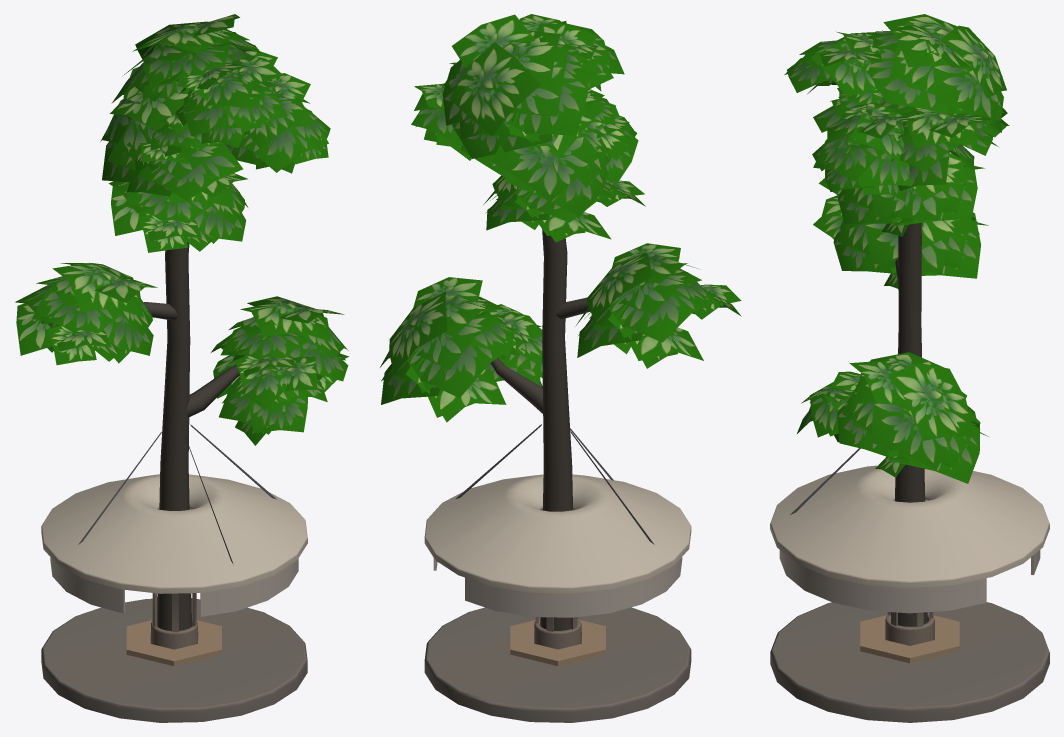
The model's file is Gazebo_003_Mesh_001.fbx.
The picture shows the model from 3 angles, left to right: view 1: azimuth 30°, elevation 25°; view 2: azimuth 150°, elevation 25°; view 3: azimuth 270°, elevation 25°; orthographic projection. The views are drawn at different scales.
Parts seen in each view (by area): view 1: Gazebo_003_Mesh_001; view 2: Gazebo_003_Mesh_001; view 3: Gazebo_003_Mesh_001.
Boxes of the visible parts, left/top/right/bottom form: Gazebo_003_Mesh_001: left=15, top=14, right=348, bottom=722; Gazebo_003_Mesh_001: left=380, top=14, right=741, bottom=722; Gazebo_003_Mesh_001: left=770, top=14, right=1049, bottom=722.
Size of the model in its own units: 7423 by 14172 by 5442.
